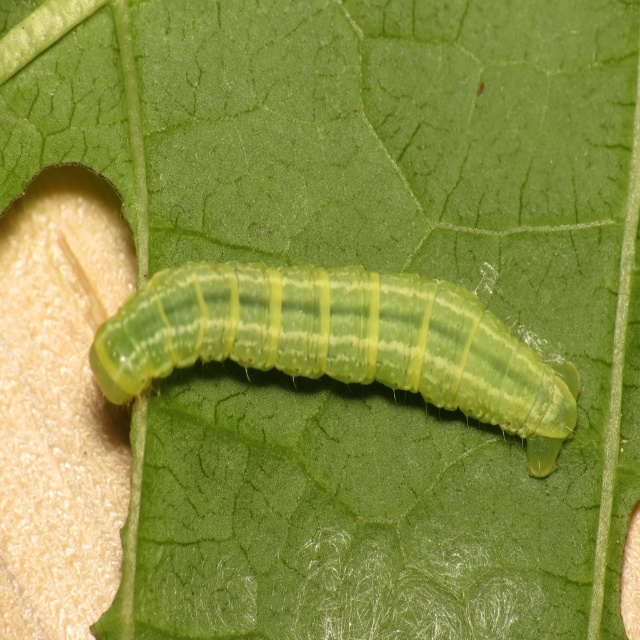Caterpillar: (90, 257, 575, 407)
